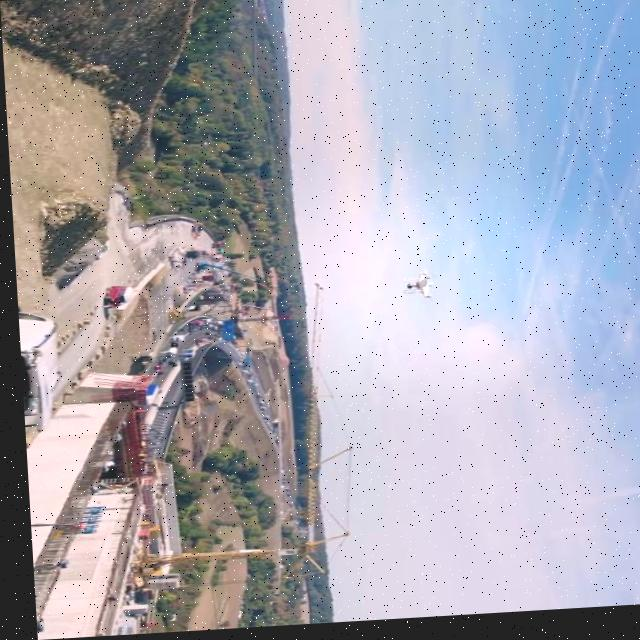drone: (397, 271, 436, 307)
